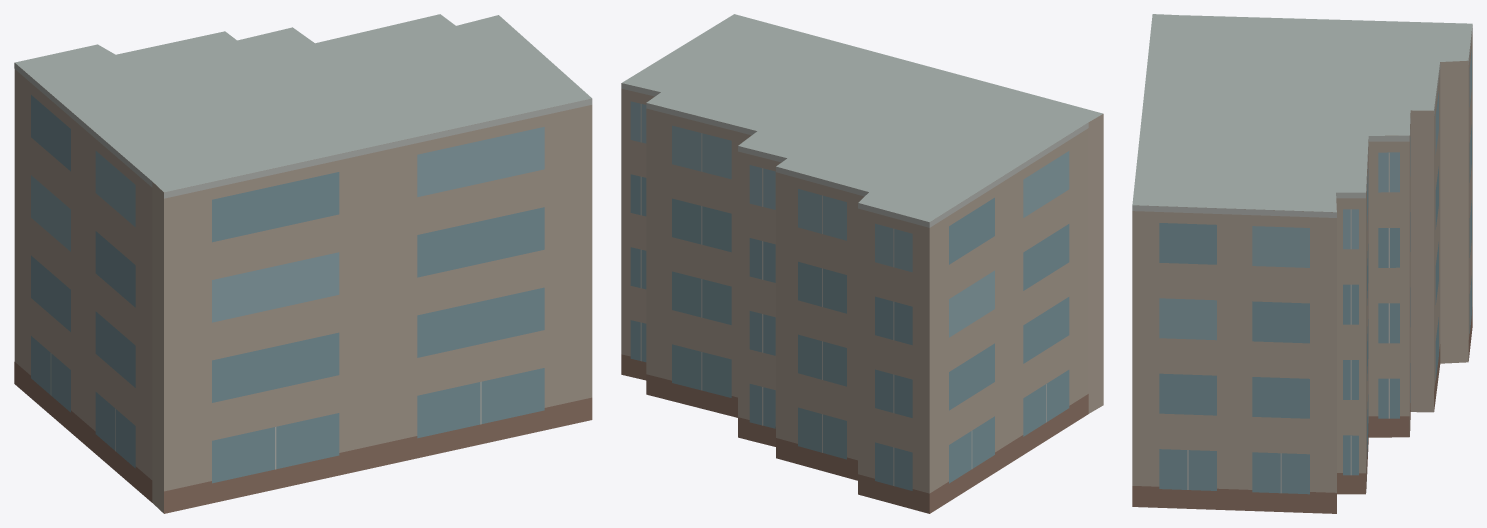
The model's file is survey-upis-32816712.glb.
The picture shows the model from 3 angles, left to right: view 1: azimuth 30°, elevation 25°; view 2: azimuth 150°, elevation 25°; view 3: azimuth 270°, elevation 25°; orthographic projection. The views are drawn at different scales.
Parts seen in each view (by area): view 1: survey-upis-32816712.tmp; view 2: survey-upis-32816712.tmp; view 3: survey-upis-32816712.tmp.
Part boxes in pixels (box(x1,y1,x2,y2)): survey-upis-32816712.tmp: box(14, 14, 592, 513); survey-upis-32816712.tmp: box(621, 14, 1103, 513); survey-upis-32816712.tmp: box(1132, 14, 1472, 513).
Size of the model in its own units: 17.77 by 12.6 by 12.89.
